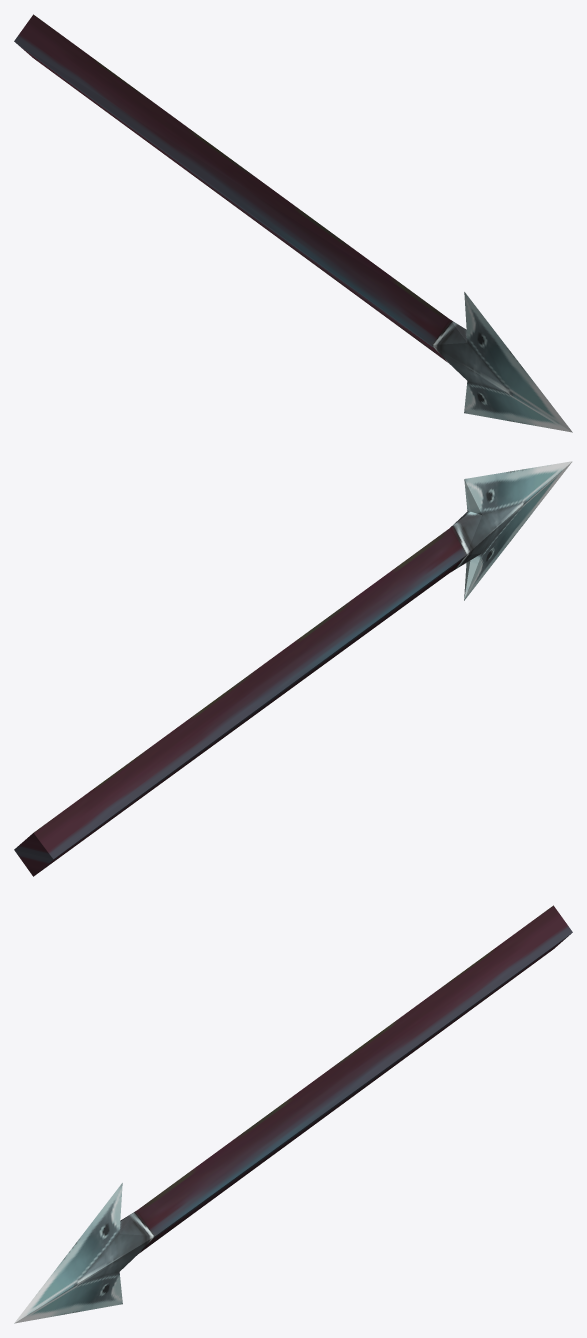
Rendered from Arrow.FBX.
3 renders of one model, top to bottom at view 1: azimuth 30°, elevation 25°; view 2: azimuth 150°, elevation 25°; view 3: azimuth 330°, elevation 25°, orthographic.
Parts seen in each view (by area): view 1: Arrow; view 2: Arrow; view 3: Arrow.
Boxes of the visible parts, bbox=[...] form: Arrow: bbox=[14, 14, 572, 432]; Arrow: bbox=[14, 461, 572, 876]; Arrow: bbox=[14, 905, 572, 1323].
Size of the model in its own units: 2.56 by 7.57 by 60.65.
1 material, 1 textured.
